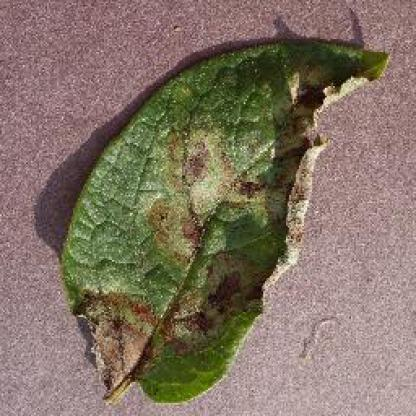bad leaf: (61, 38, 393, 401)
